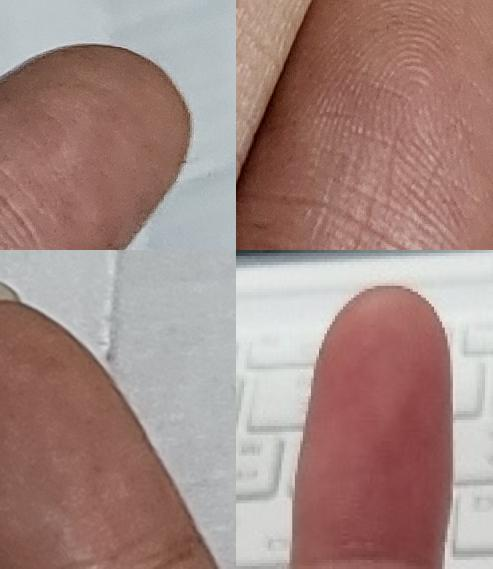Fingerprints: (236, 0, 493, 250), (0, 299, 202, 569), (291, 285, 453, 569), (0, 43, 193, 250)
